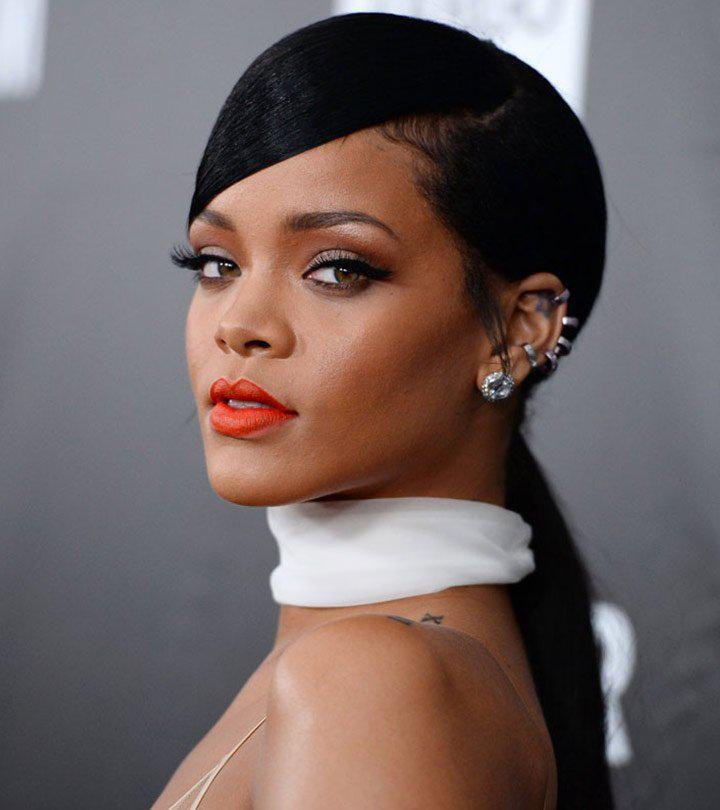Sober: (191, 149, 459, 496)
